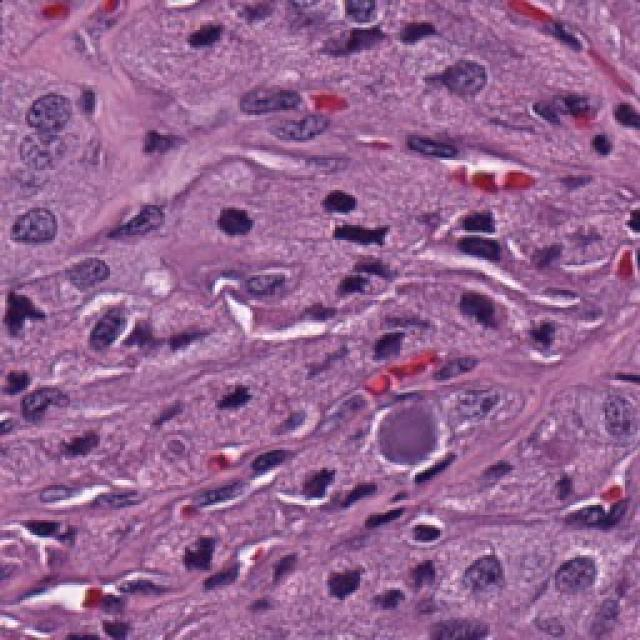abnormal: (0, 73, 103, 143), (431, 369, 530, 439), (544, 531, 616, 627), (448, 531, 524, 619), (0, 182, 82, 262), (420, 47, 514, 114), (570, 372, 640, 453)
